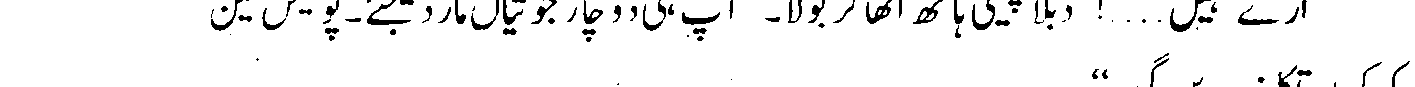bay_shosha: (1043, 6, 1058, 30)
